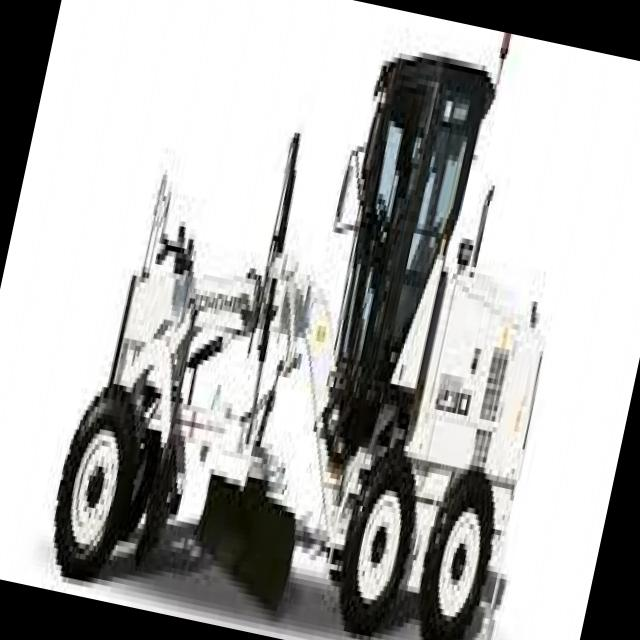Grader: (18, 0, 620, 640)
